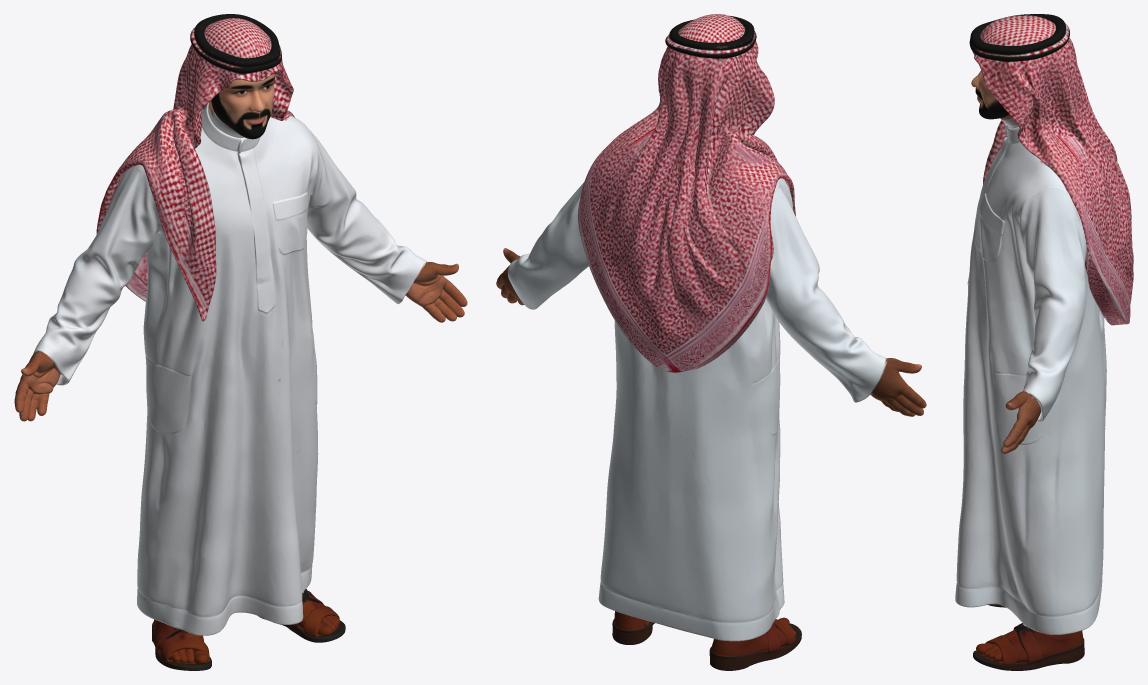
The model's file is employee-01.glb.
3 views of the same model, side by side, from view 1: azimuth 30°, elevation 25°; view 2: azimuth 150°, elevation 25°; view 3: azimuth 270°, elevation 25° (orthographic).
Size of the model in its own units: 1.41 by 1.9 by 0.5052.
1 material, 1 textured.
